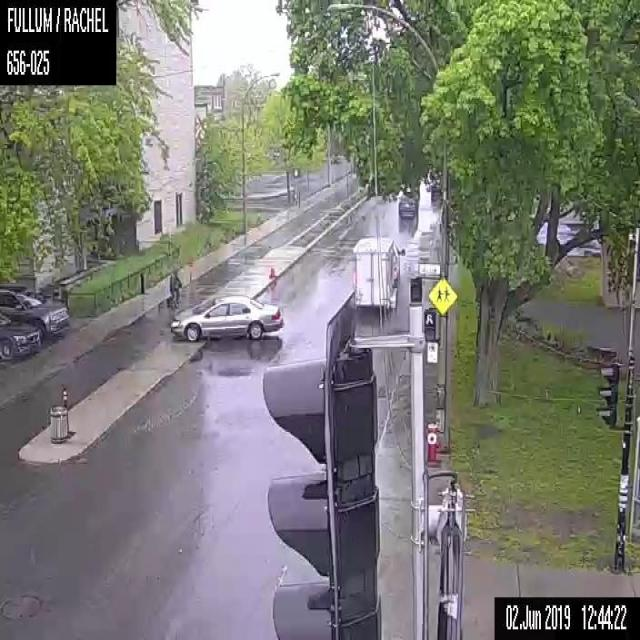cyclist: (166, 269, 181, 309)
vehicle: (170, 294, 283, 342), (352, 236, 405, 310), (0, 284, 69, 337), (0, 311, 39, 362), (398, 191, 417, 217), (430, 182, 440, 200)
